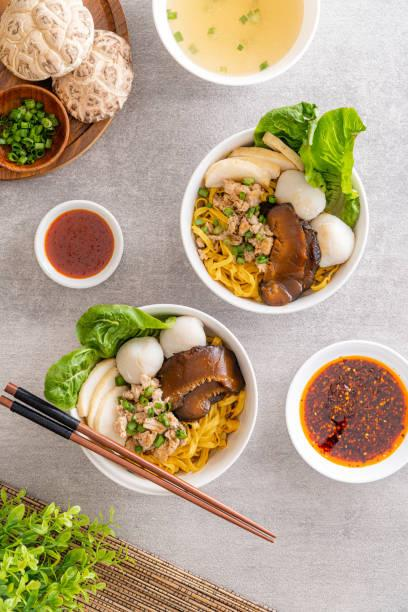Braised Crucian Carp: (69, 302, 256, 492), (179, 125, 366, 310)
